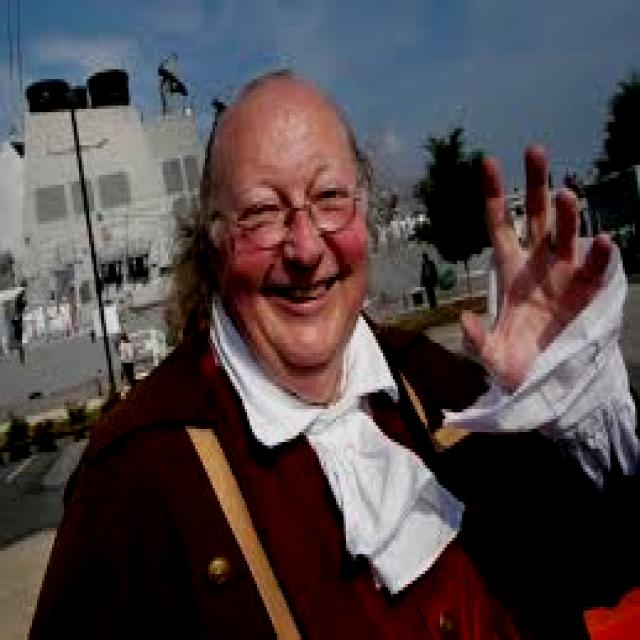normal_face: (215, 115, 386, 368)
